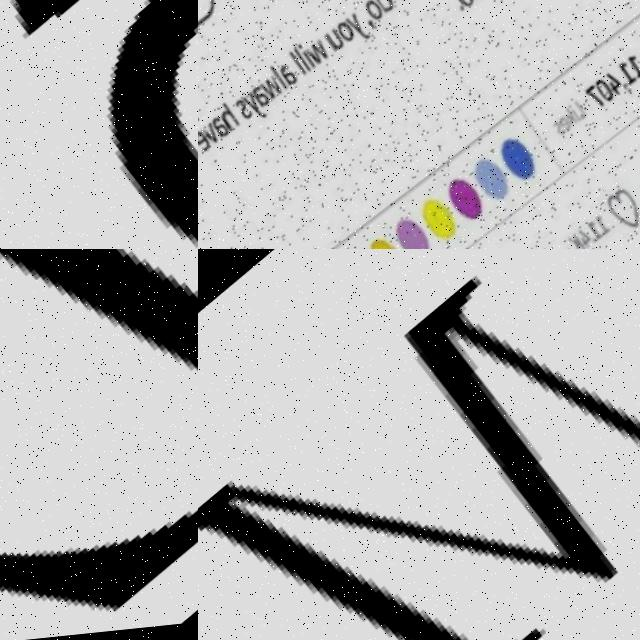0: (592, 85, 619, 116)
1: (612, 65, 640, 101), (621, 59, 640, 92), (585, 224, 610, 249), (594, 220, 616, 246)
4: (600, 76, 629, 110), (574, 232, 598, 249)
6: (0, 0, 198, 249)
7: (583, 90, 612, 124)
L: (0, 249, 198, 640)
M: (198, 249, 640, 640)
